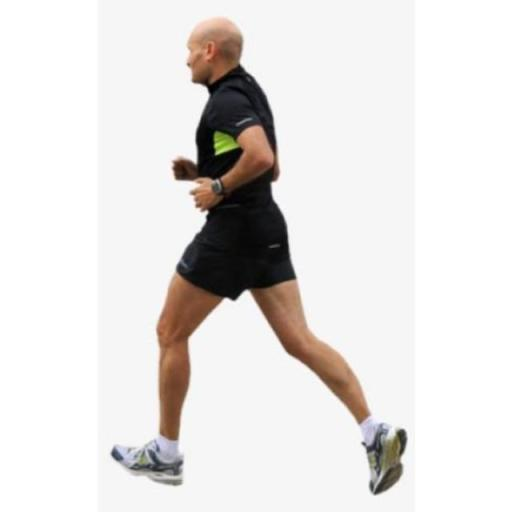Running: (106, 16, 409, 502)
